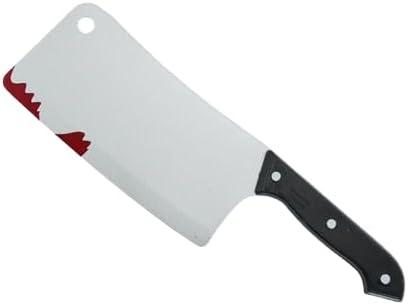Knife: (2, 0, 406, 304)
